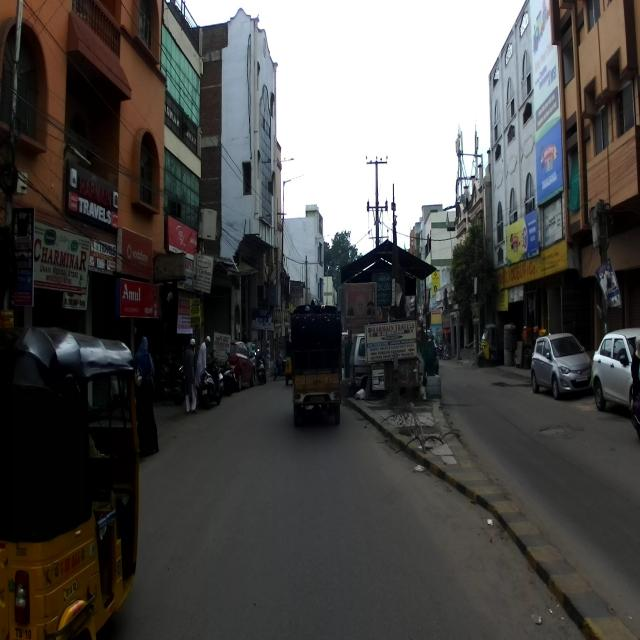autorickshaw: (0, 322, 143, 640)
car: (532, 331, 594, 400)
truck: (290, 308, 344, 424)
